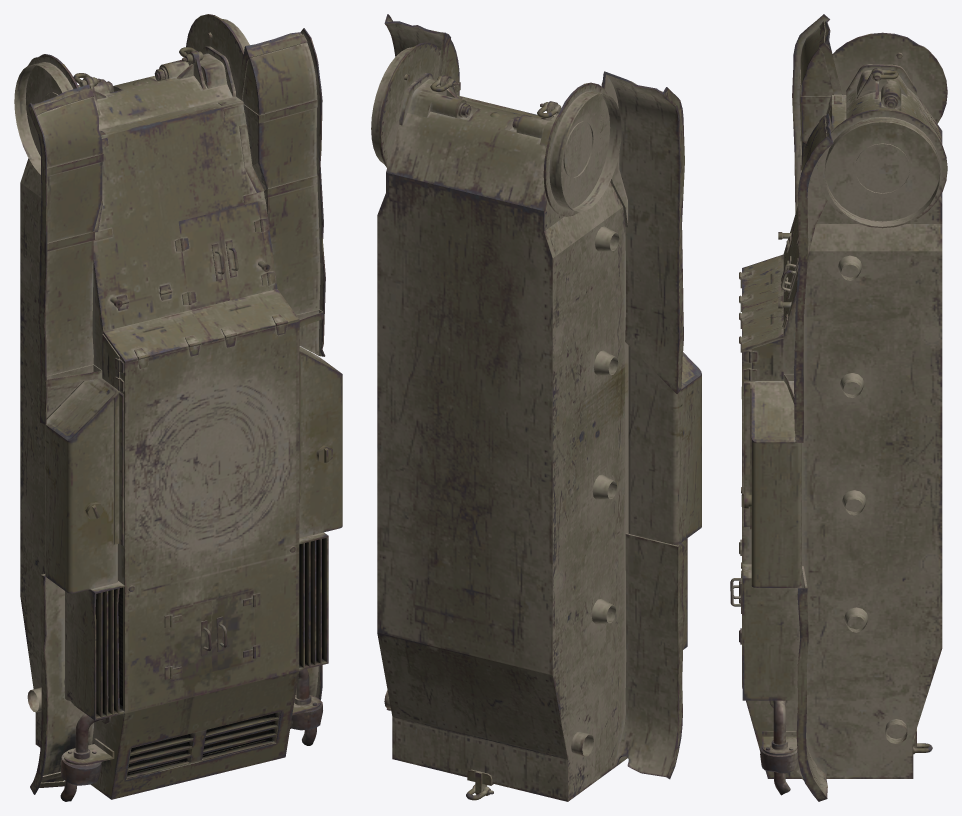
The model's file is Hull.glb.
3 renders of one model, left to right at view 1: azimuth 30°, elevation 25°; view 2: azimuth 150°, elevation 25°; view 3: azimuth 270°, elevation 25°, orthographic. The views are drawn at different scales.
Parts seen in each view (by area): view 1: set_0_group_0; view 2: set_0_group_0; view 3: set_0_group_0.
Part boxes in pixels (x1,y1,x2,y2): set_0_group_0: (14,14,342,801); set_0_group_0: (371,14,701,801); set_0_group_0: (730,14,947,801).
Size of the model in its own units: 1.88 by 4.53 by 1.31.
1 material, 1 textured.
